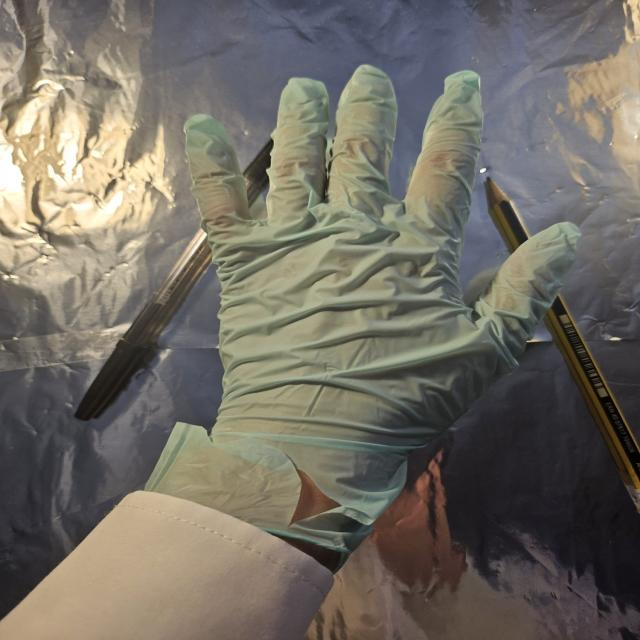gloves_damaged: (141, 64, 589, 550)
